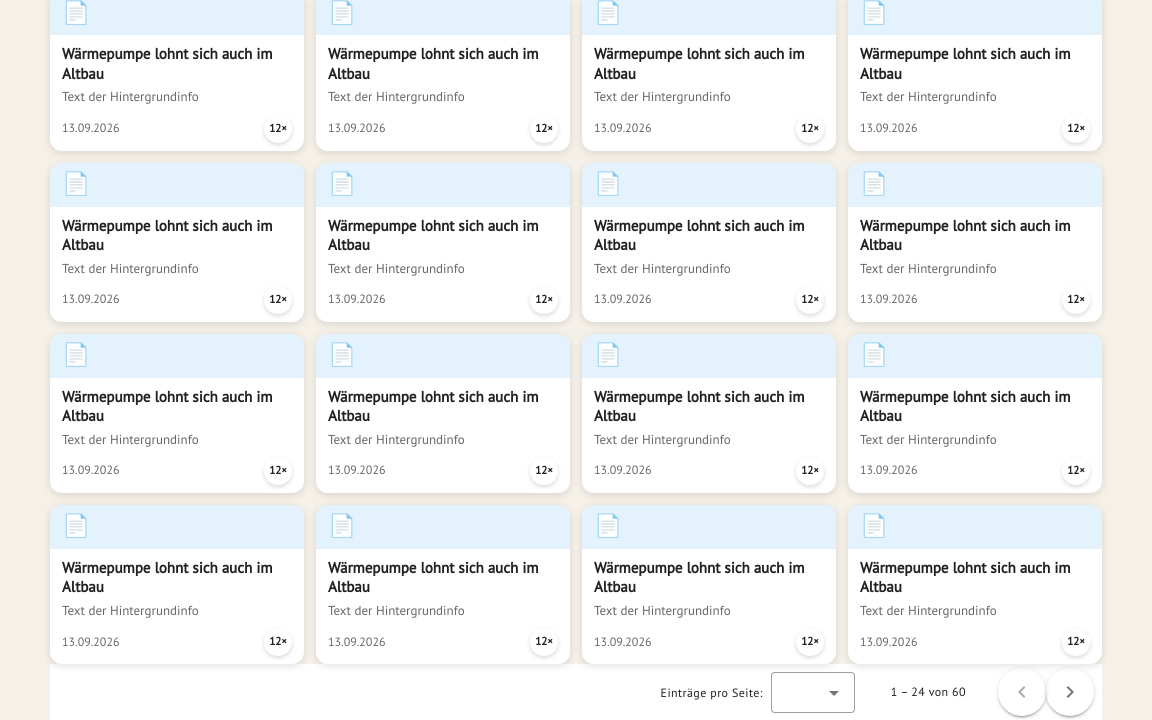
Test: ContributionsViewComponent › laedt nach zweimal "Weiter" Seite 3, auch wenn die Antwort auf sich warten laesst
(page scrolled)
What coordinates should you click on to do the following:
click the button named "Nächste Seite"
I would click on:
 (1070, 692)
Its box is [1046,668,1094,716].
Wait 50 ms
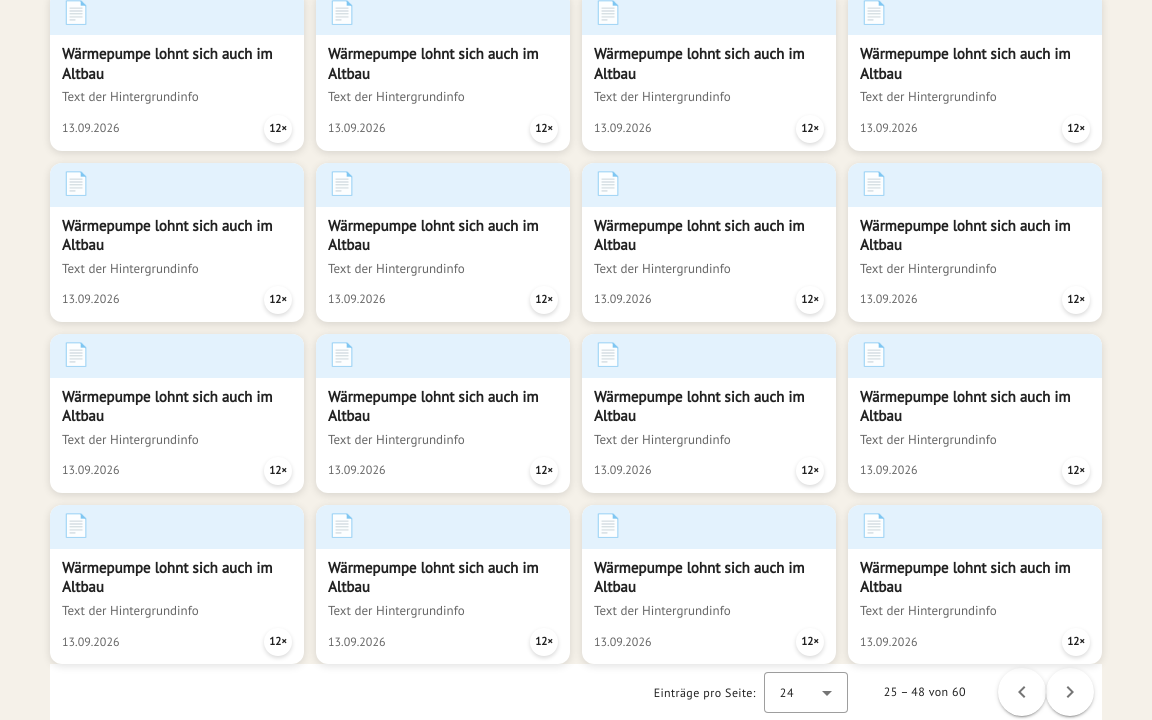
What coordinates should you click on to do the following:
click the button named "Nächste Seite"
I would click on:
 (1070, 692)
Its box is [1046,668,1094,716].
Wait 50 ms
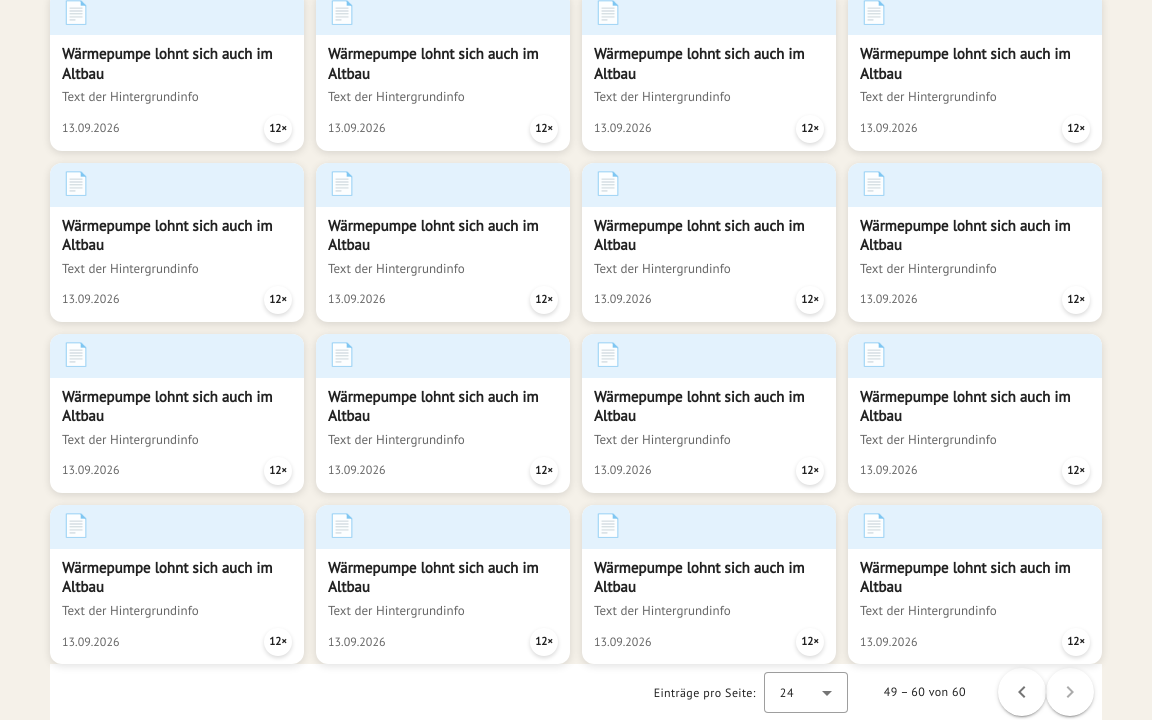
Now the text "49 – 60 von 60" is shown, box [884,682,966,702]
